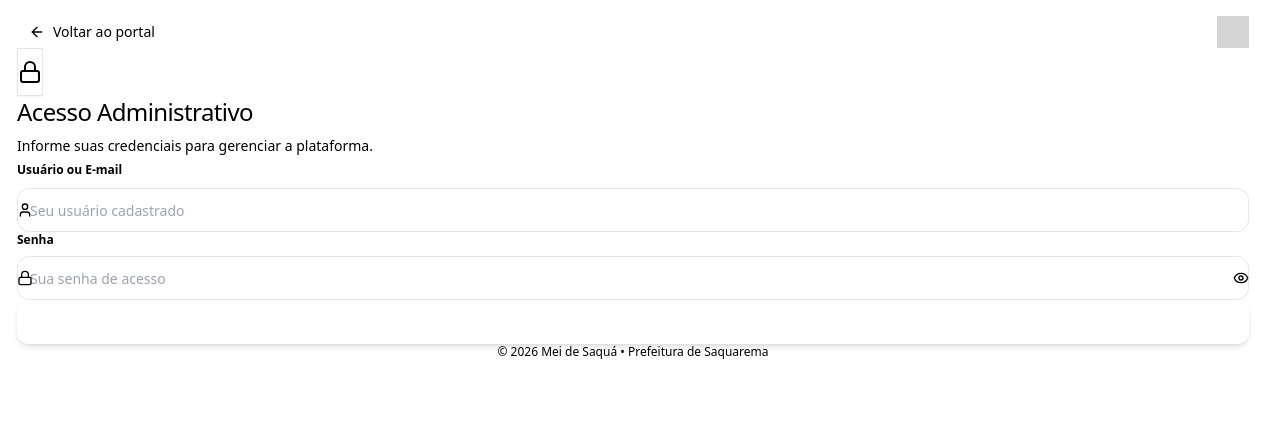
it: AdminLoginPage › impede submissão e exibe erros de validação quando campos estão vazios
Click the button "Entrar no Painel".
click(633, 322)  # box [17, 300, 1249, 344]
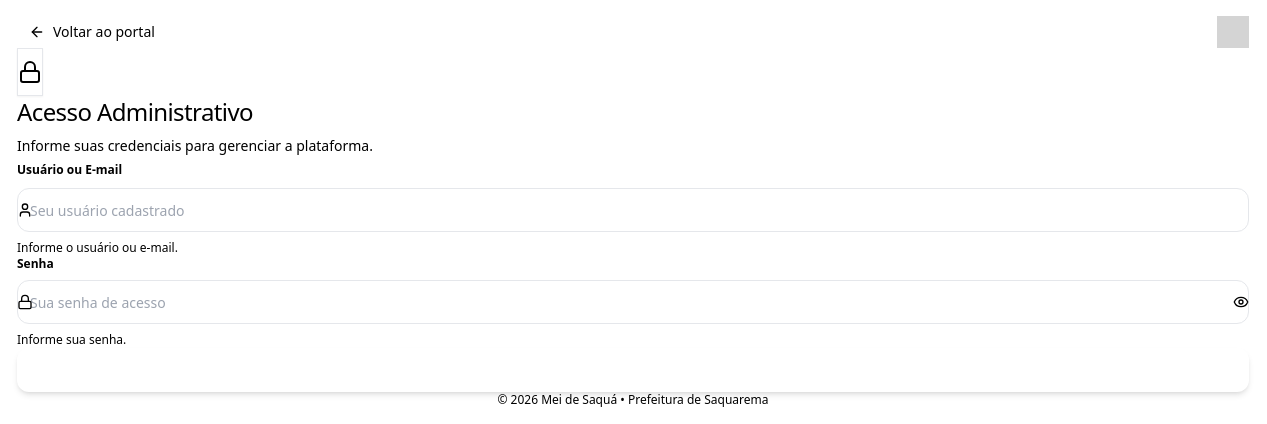
Expected: the text "Informe o usuário ou e-mail." is shown, [17, 239, 178, 256]
Expected: the text "Informe sua senha." is shown, [17, 331, 126, 348]
